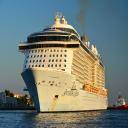cruises: (18, 9, 110, 113)
